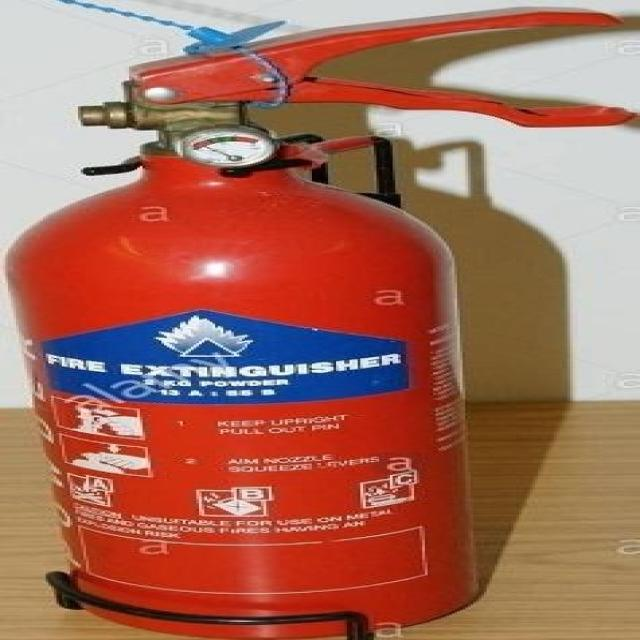fire_extinguisher: (0, 6, 635, 639)
